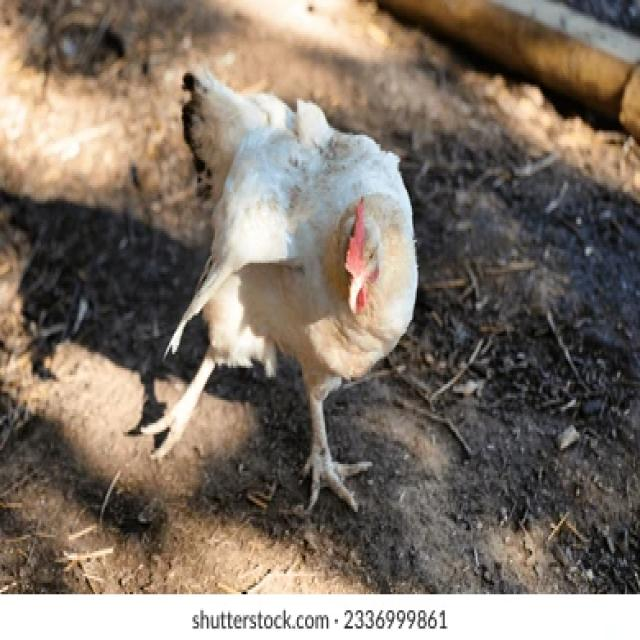leg stretching: (132, 61, 434, 524)
